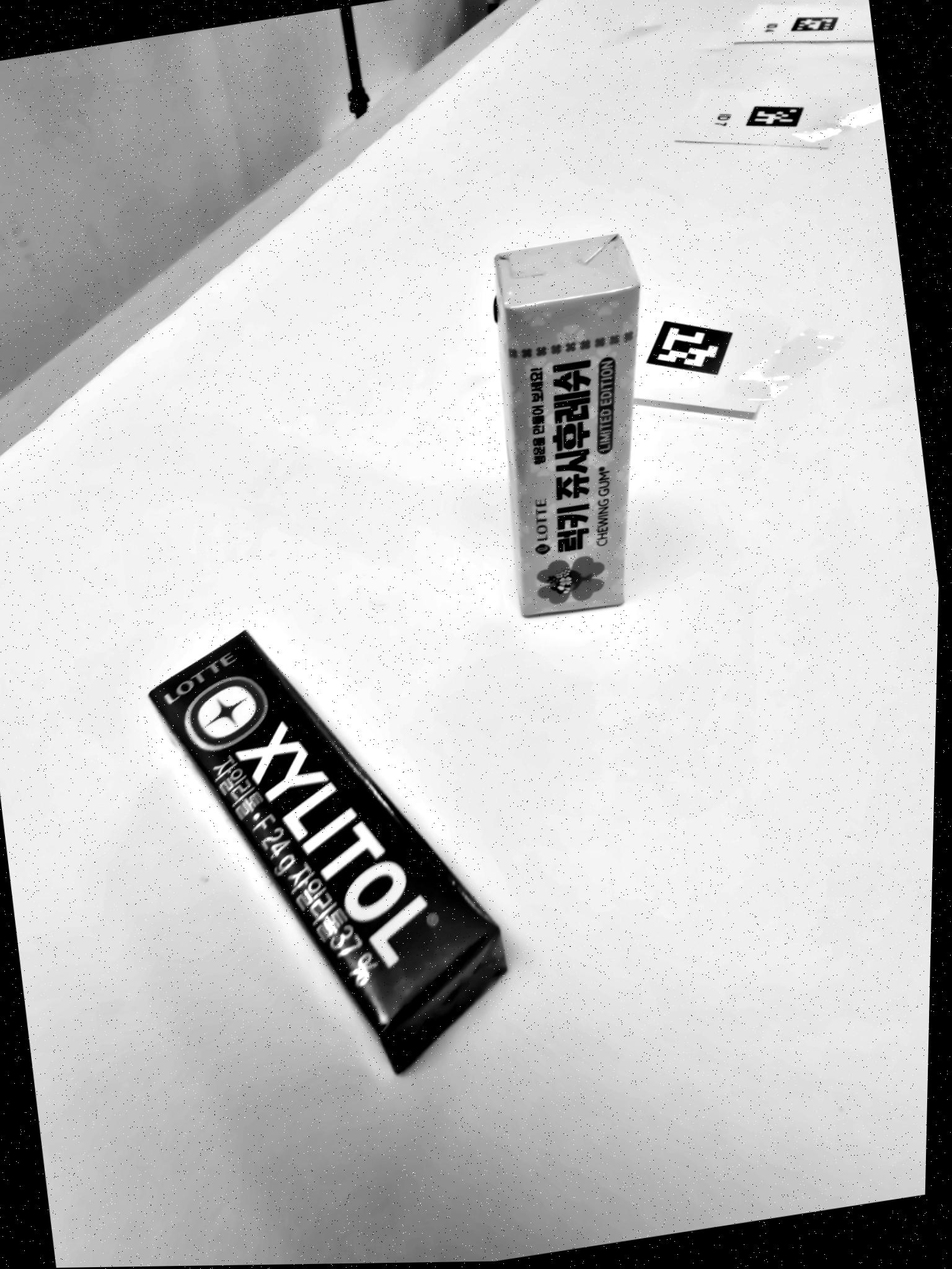gum_green: (150, 631, 505, 1072)
gum_yellow: (495, 235, 640, 616)
